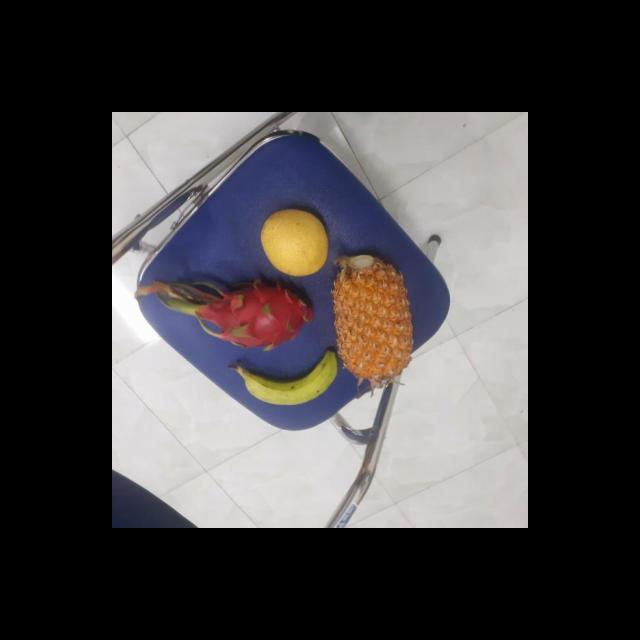banana: (242, 350, 347, 408)
pear: (258, 206, 332, 276)
pineapple: (332, 255, 418, 382)
pitaya: (200, 276, 318, 350)
